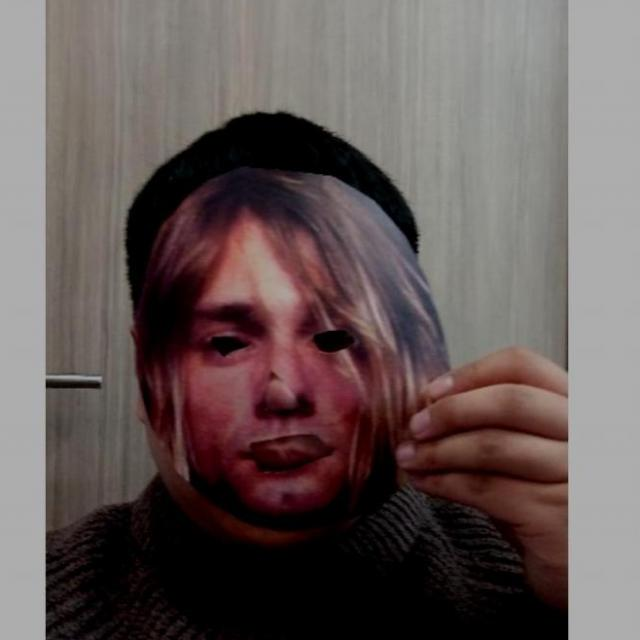mask: (125, 169, 459, 530)
